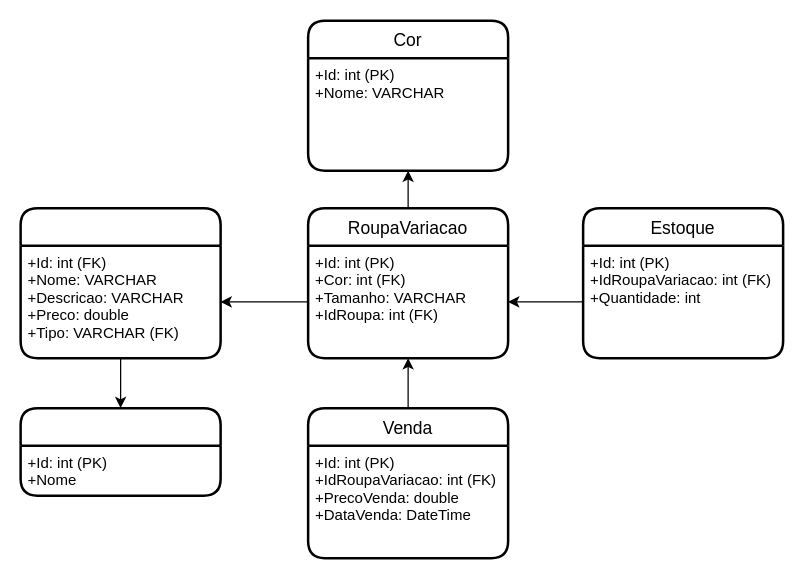
The diagram is 804 pixels wide and 579 high, and some of its shapes have lost their labels. Here are the shapes that lost their labels. From the top down, the box of each, then its label:
(19, 206, 221, 359): Roupa
(19, 406, 221, 496): Tipo
